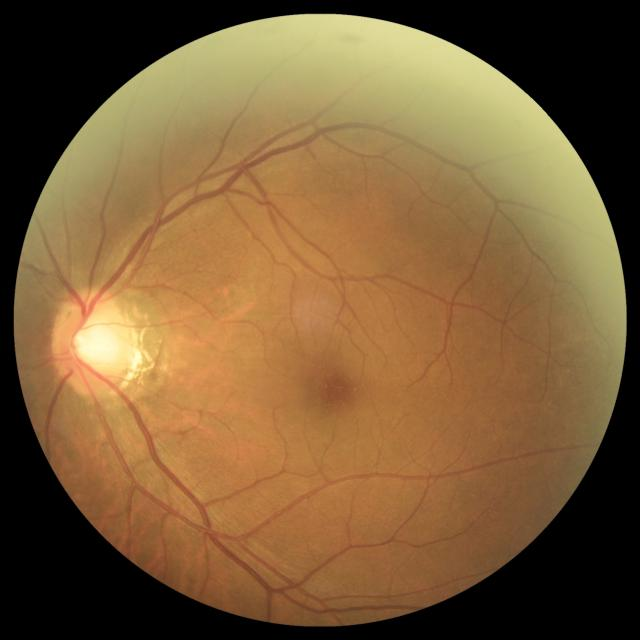OC: (73, 318, 117, 369)
OD: (51, 290, 136, 394)
